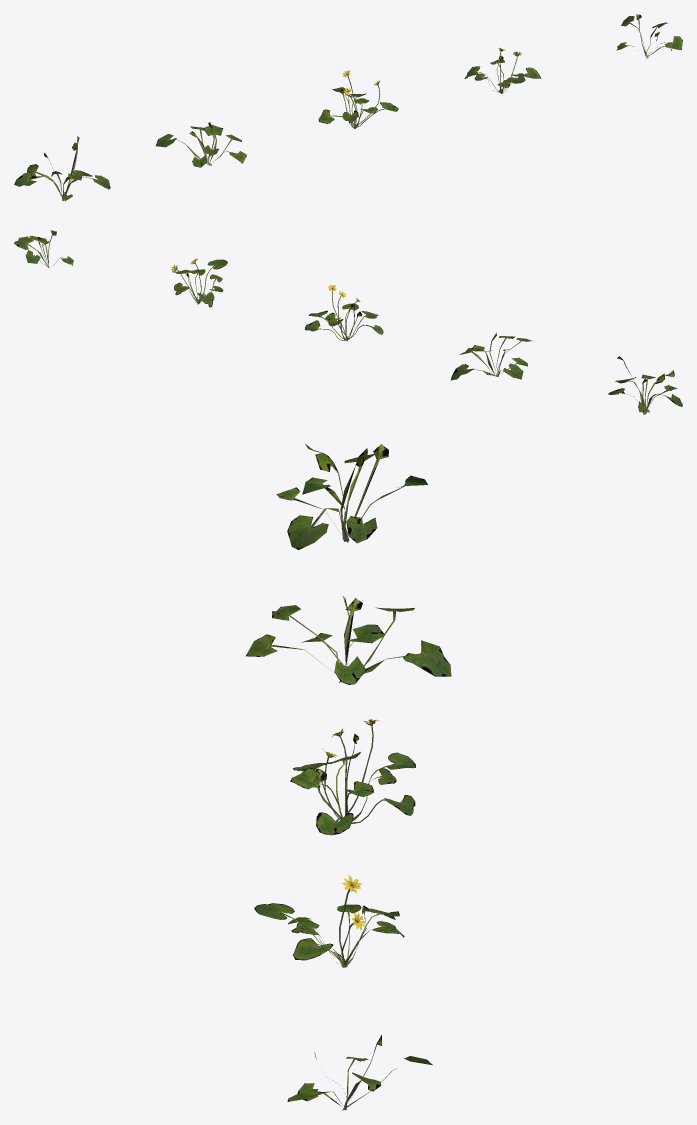
File: celandine_01.glb
3 views of the same model, one above another, from view 1: azimuth 30°, elevation 25°; view 2: azimuth 150°, elevation 25°; view 3: azimuth 270°, elevation 25° (orthographic). The views are drawn at different scales.
Parts seen in each view (by area): view 1: celandine_01_c_LOD0, celandine_01_b_LOD0, celandine_01_a_LOD0, celandine_01_d_LOD0, celandine_01_e_LOD0; view 2: celandine_01_c_LOD0, celandine_01_b_LOD0, celandine_01_d_LOD0, celandine_01_a_LOD0, celandine_01_e_LOD0; view 3: celandine_01_b_LOD0, celandine_01_a_LOD0, celandine_01_c_LOD0, celandine_01_d_LOD0, celandine_01_e_LOD0.
Boxes of the visible parts, x1,y1,x2,y2 form: celandine_01_c_LOD0: (318, 70, 398, 128); celandine_01_b_LOD0: (155, 122, 246, 167); celandine_01_a_LOD0: (14, 136, 110, 201); celandine_01_d_LOD0: (464, 47, 541, 93); celandine_01_e_LOD0: (616, 14, 682, 58); celandine_01_c_LOD0: (304, 284, 383, 340); celandine_01_b_LOD0: (450, 332, 531, 380); celandine_01_d_LOD0: (171, 258, 227, 307); celandine_01_a_LOD0: (608, 356, 682, 414); celandine_01_e_LOD0: (14, 230, 73, 267); celandine_01_b_LOD0: (246, 596, 451, 684); celandine_01_a_LOD0: (276, 444, 427, 549); celandine_01_c_LOD0: (290, 719, 415, 835); celandine_01_d_LOD0: (254, 875, 404, 967); celandine_01_e_LOD0: (287, 1034, 432, 1110).
Size of the model in its own units: 2.24 by 0.185 by 0.3051.
1 material, 1 textured.
